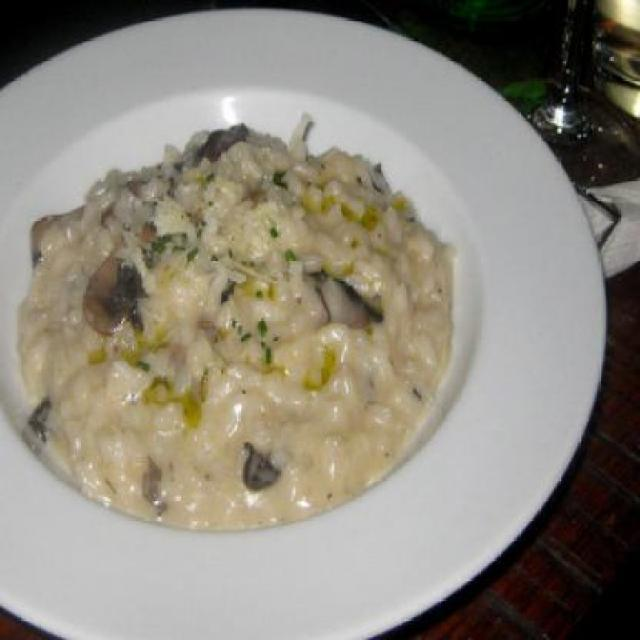Risotto: (33, 136, 436, 510)
